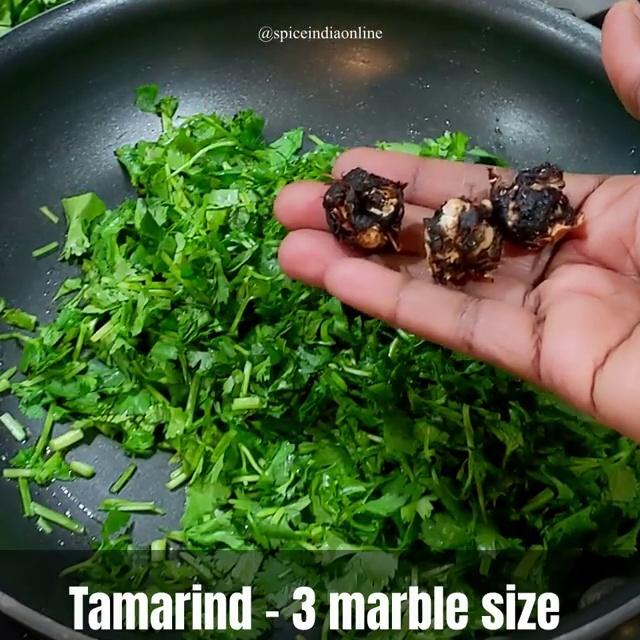cilantro: (86, 151, 282, 434)
